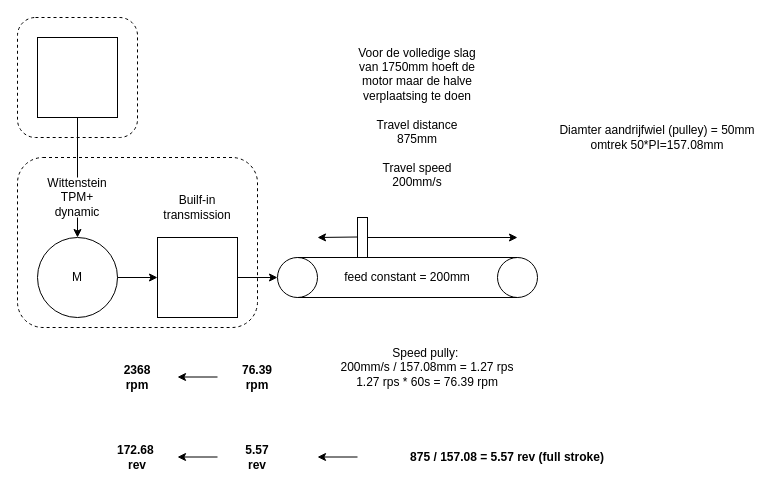
Image size: 775x495. Some labels were removed from this diagram. The shapes that lost their labels are listed below. From the top down, each one's box as (x1, y1, x2, y2) in pixels, then its label:
(36, 36, 118, 118): BECKHOFF AX5206-0000-0202
(156, 236, 238, 318): i = 31
